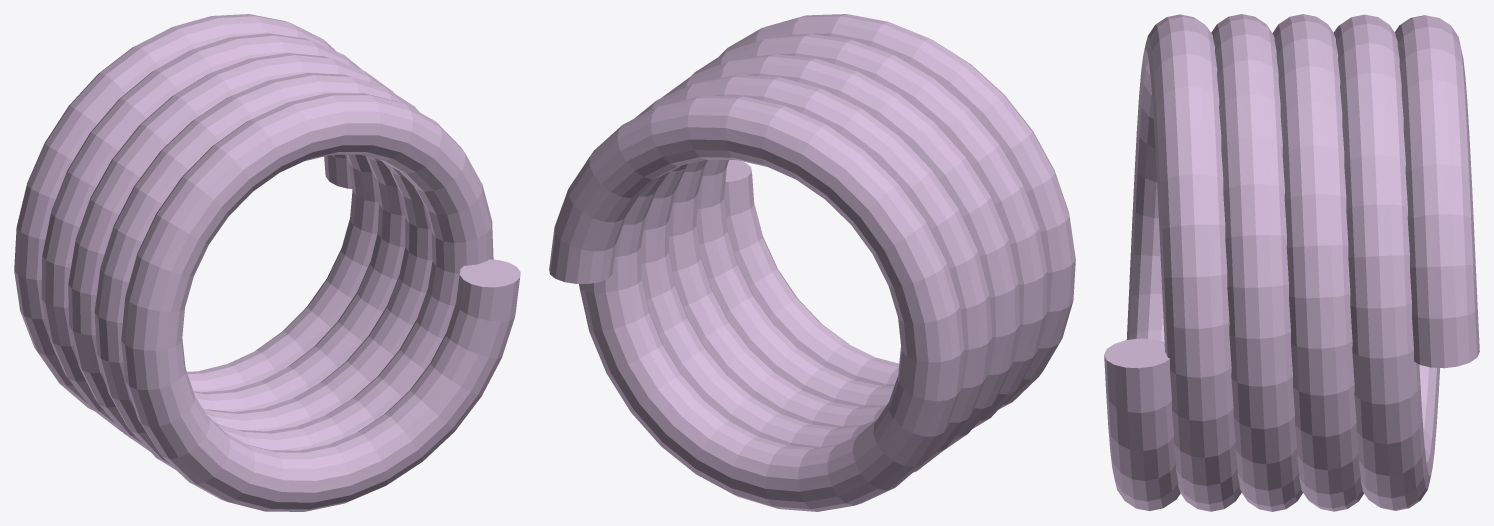
The model's file is helix_tube_demo.glb.
3 renders of one model, left to right at view 1: azimuth 30°, elevation 25°; view 2: azimuth 150°, elevation 25°; view 3: azimuth 270°, elevation 25°, orthographic. The views are drawn at different scales.
Visible parts, largest first — view 1: helical_tube; view 2: helical_tube; view 3: helical_tube.
Part boxes in pixels (left/top/right/bottom): helical_tube: left=14, top=14, right=520, bottom=511; helical_tube: left=549, top=14, right=1075, bottom=511; helical_tube: left=1104, top=14, right=1479, bottom=511.
Bounding box in the file's own units: 16.3 × 16.3 × 12.3.
